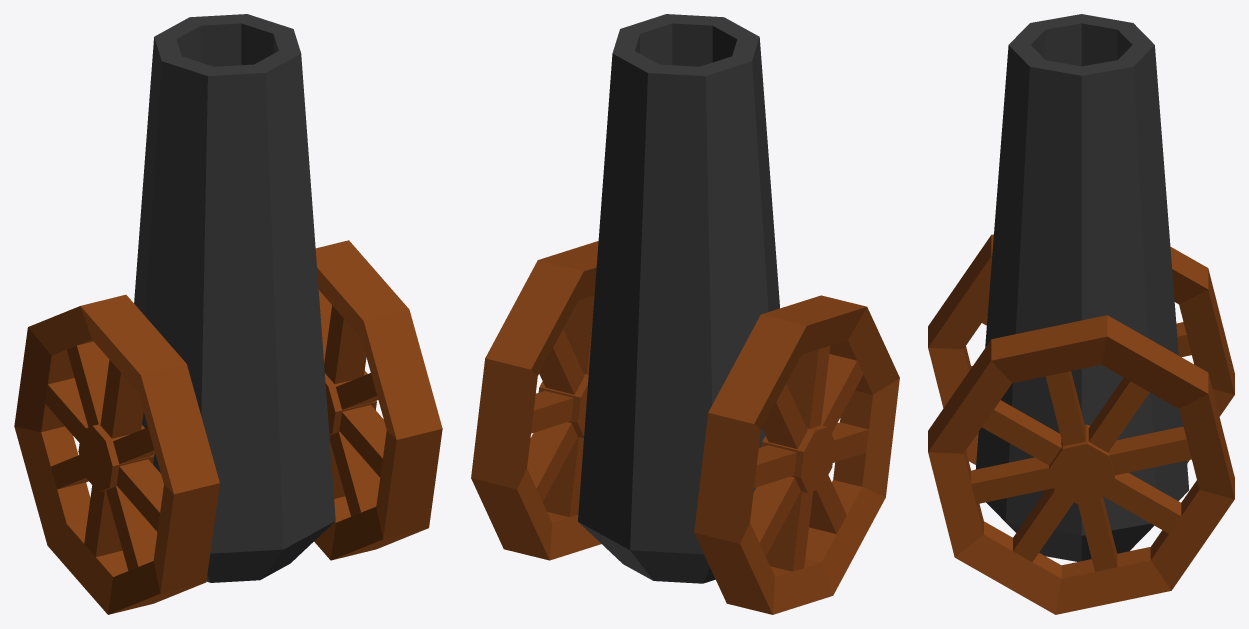
Rendered from Cannon.fbx.
3 views of the same model, side by side, from view 1: azimuth 30°, elevation 25°; view 2: azimuth 150°, elevation 25°; view 3: azimuth 270°, elevation 25° (orthographic). The views are drawn at different scales.
Parts seen in each view (by area): view 1: Barrel, Wheel2, Wheel1; view 2: Barrel, Wheel2, Wheel1; view 3: Barrel, Wheel1, Wheel2.
Part boxes in pixels (x1,y1,x2,y2): Barrel: (134, 14, 335, 582); Wheel2: (14, 294, 219, 614); Wheel1: (314, 240, 442, 560); Barrel: (578, 14, 779, 583); Wheel2: (694, 295, 899, 614); Wheel1: (471, 241, 600, 560); Barrel: (975, 14, 1189, 561); Wheel1: (928, 315, 1234, 614); Wheel2: (928, 234, 1234, 464).
Bounding box in the file's own units: 2.36 × 4.41 × 2.42.
